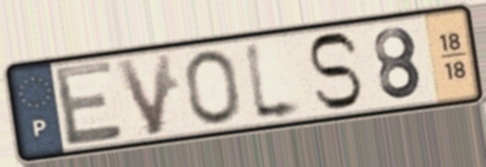8: (372, 25, 424, 101)
E: (51, 57, 127, 150)
L: (241, 35, 309, 127)
O: (182, 48, 244, 127)
S: (304, 30, 365, 113)
V: (112, 48, 177, 139)
